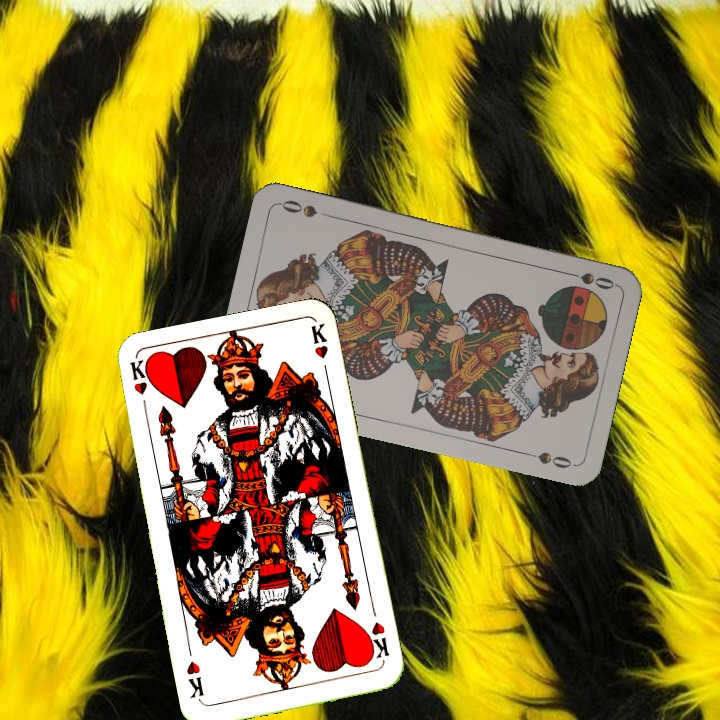HK: (361, 618, 392, 665), (126, 357, 150, 417)
SO: (559, 267, 617, 293)
